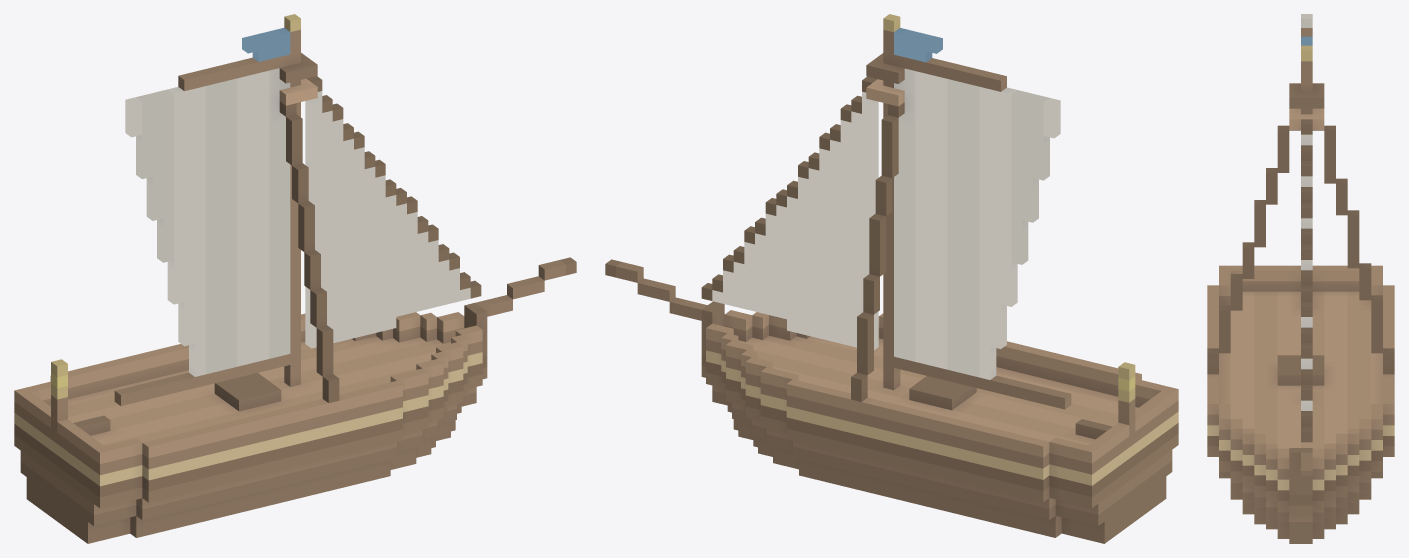
File: sloop.glb
The picture shows the model from 3 angles, left to right: view 1: azimuth 30°, elevation 25°; view 2: azimuth 150°, elevation 25°; view 3: azimuth 270°, elevation 25°; orthographic projection. The views are drawn at different scales.
Visible parts, largest first — view 1: sloop; view 2: sloop; view 3: sloop.
Part boxes in pixels (x1=…): sloop: x1=14, y1=14, x2=576, y2=543; sloop: x1=605, y1=14, x2=1178, y2=543; sloop: x1=1207, y1=14, x2=1394, y2=543.
Bounding box in the file's own units: 2.45 × 2 × 0.8.
